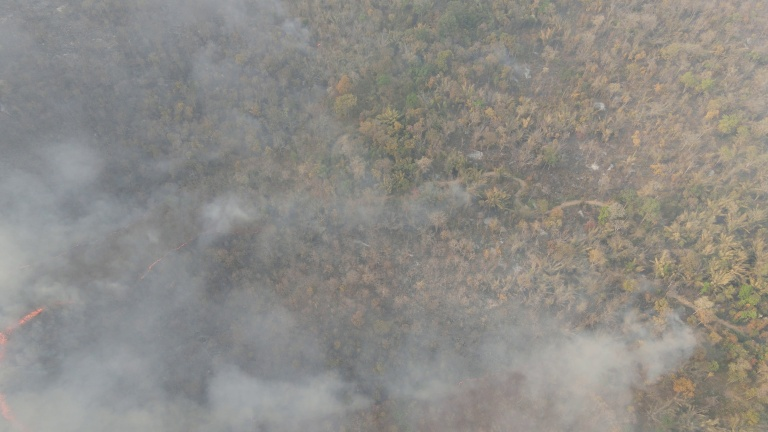fire: (1, 297, 62, 432), (133, 235, 194, 287)
smoke: (1, 192, 249, 432), (512, 303, 670, 428)
